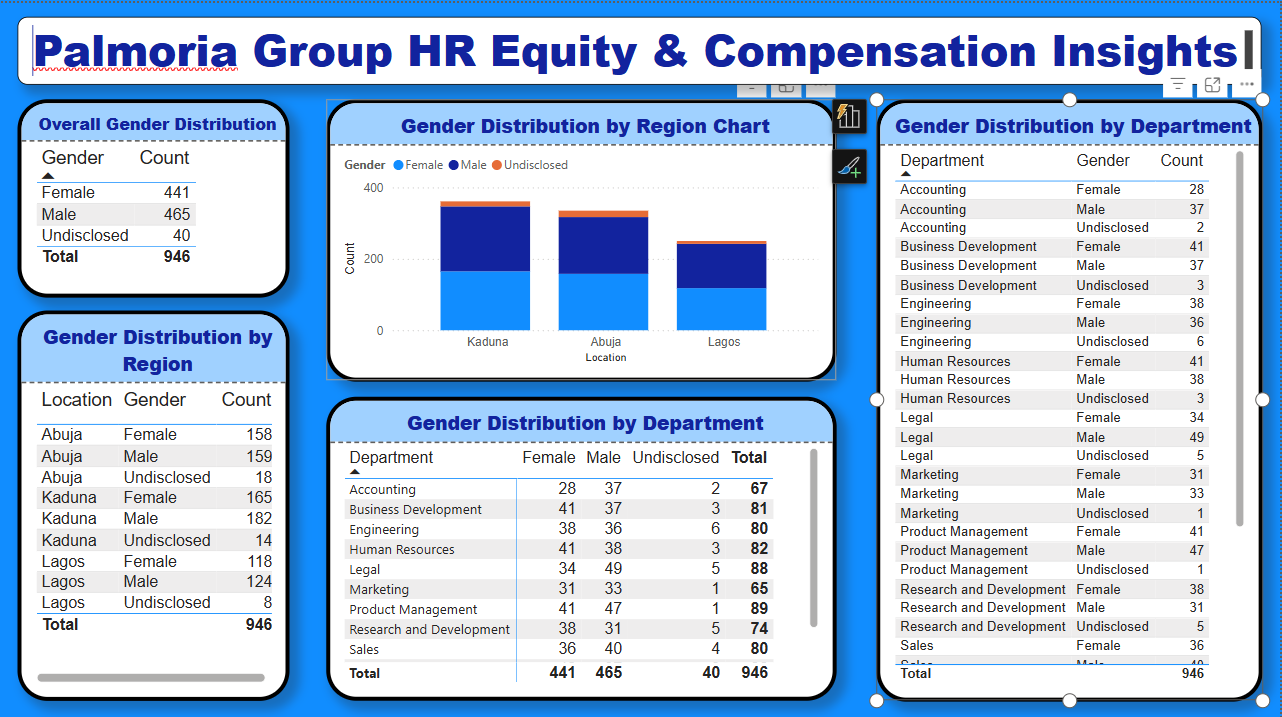

The page's visual inventory and layout, read from the dashboard file:
{"tool":"powerbi","page":{"name":"Page 1","canvas":[1280,720],"ordinal":0},"visuals":[{"type":"tableEx","title":"Overall Gender Distribution","fields":{"Values":["Palmoria Group emp-data.Gender","CountNonNull(Palmoria Group emp-data.Gender)"]},"box":[18,96,272,198],"z":0},{"type":"tableEx","title":"Gender Distribution by Region","fields":{"Values":["Palmoria Group emp-data.Location","Palmoria Group emp-data.Gender","CountNonNull(Palmoria Group emp-data.Gender)"]},"box":[18,308,272,390],"z":1},{"type":"columnChart","title":"Gender Distribution by Region Chart","fields":{"Series":["Palmoria Group emp-data.Gender"],"Category":["Palmoria Group emp-data.Location"],"Y":["CountNonNull(Palmoria Group emp-data.Location)"]},"box":[326,96,510,282],"z":2},{"type":"tableEx","title":"Gender Distribution by Department","fields":{"Values":["Palmoria Group emp-data.Department","Palmoria Group emp-data.Gender","CountNonNull(Palmoria Group emp-data.Gender)"]},"box":[876,96,386,602],"z":3},{"type":"pivotTable","title":"Gender Distribution by Department","fields":{"Rows":["Palmoria Group emp-data.Department"],"Columns":["Palmoria Group emp-data.Gender"],"Values":["CountNonNull(Palmoria Group emp-data.Gender)"]},"box":[326,394,510,304],"z":4},{"type":"textbox","box":[18,14,1244,68],"z":5}]}

Visuals, with their boxes on the page's 1280x720 design canvas (x1, y1, x2, y2). These are canvas units, not pixel positions in the 1282x717 screenshot, which may show the page scaled, cropped or inside an application window:
"Overall Gender Distribution" tableEx: <region>18, 96, 290, 294</region>
"Gender Distribution by Region" tableEx: <region>18, 308, 290, 698</region>
"Gender Distribution by Region Chart" columnChart: <region>326, 96, 836, 378</region>
"Gender Distribution by Department" tableEx: <region>876, 96, 1262, 698</region>
"Gender Distribution by Department" pivotTable: <region>326, 394, 836, 698</region>
textbox: <region>18, 14, 1262, 82</region>
